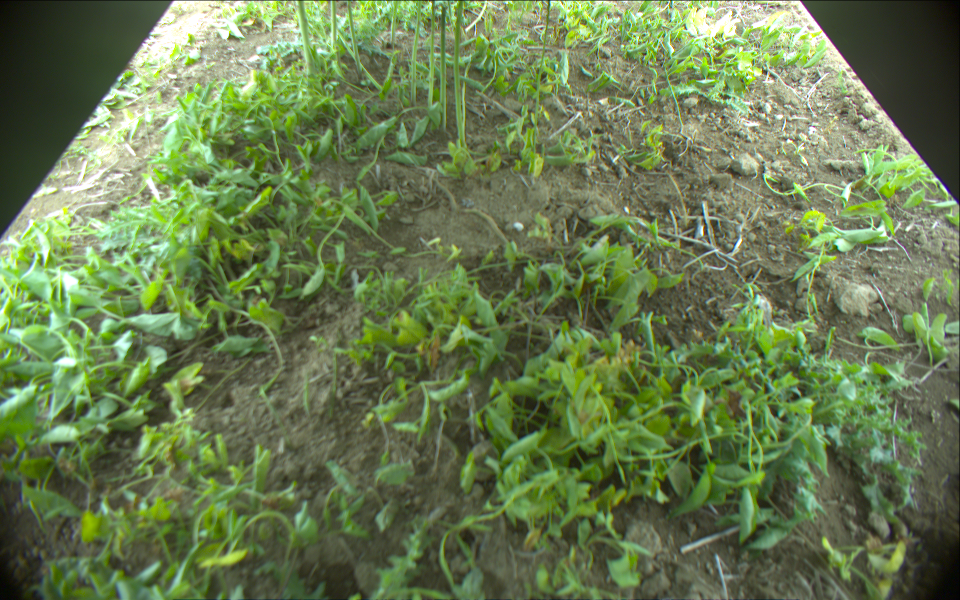aspa: (333, 27, 383, 90), (534, 1, 552, 131), (452, 1, 467, 145), (408, 1, 422, 106), (344, 1, 363, 74), (438, 3, 448, 129), (296, 1, 313, 75), (426, 1, 436, 108), (328, 1, 338, 55), (391, 1, 398, 47)
